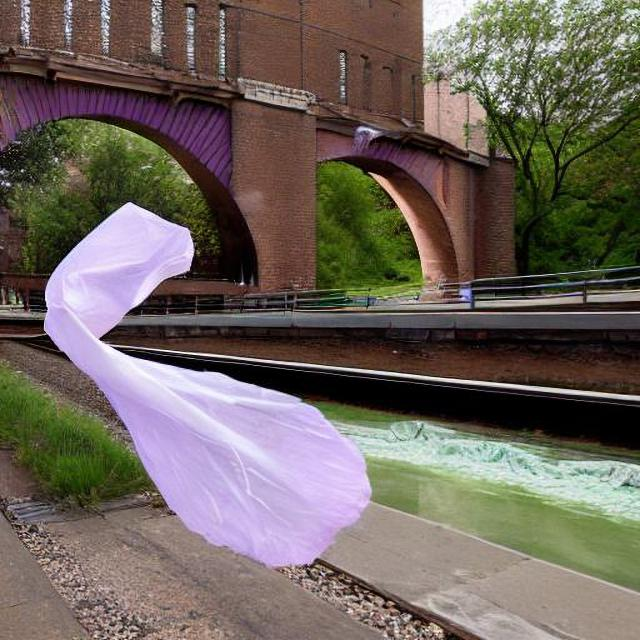plastic bag: (22, 188, 406, 589)
